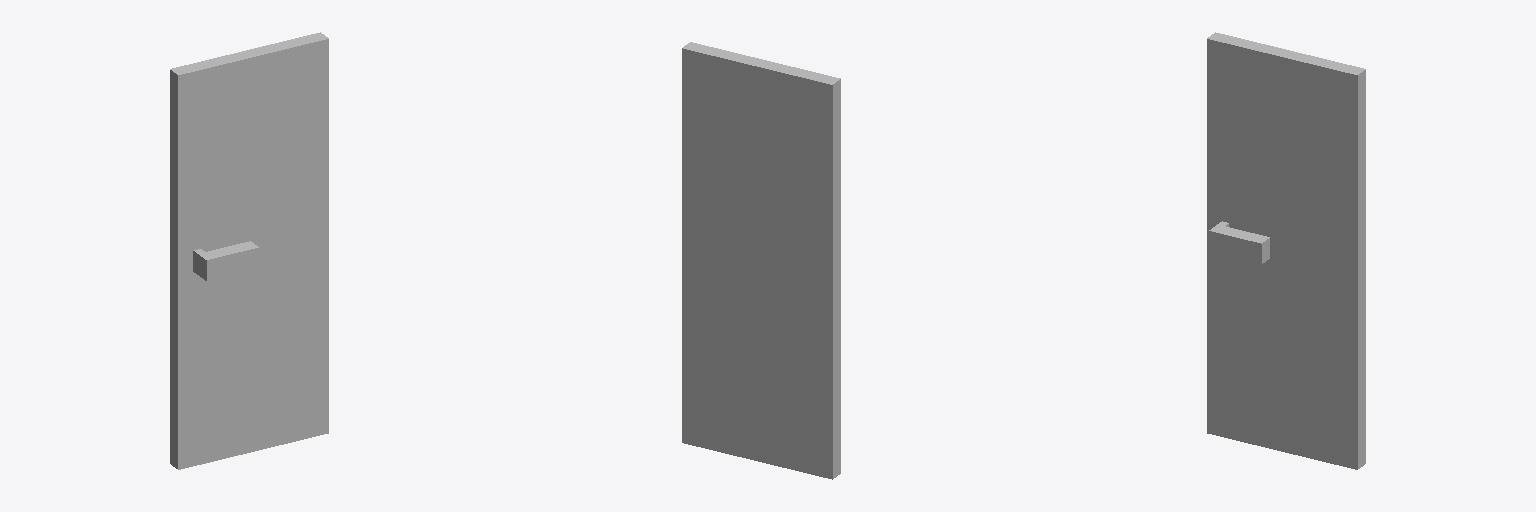
File: WardrobeDoorRight.obj
3 views of the same model, side by side, from view 1: azimuth 30°, elevation 25°; view 2: azimuth 150°, elevation 25°; view 3: azimuth 330°, elevation 25° (orthographic).
Visible parts, largest first — view 1: WardrobeDoorRight; view 2: WardrobeDoorRight; view 3: WardrobeDoorRight.
Boxes of the visible parts, <box> form: WardrobeDoorRight: <box>170,32,328,469</box>; WardrobeDoorRight: <box>682,42,840,479</box>; WardrobeDoorRight: <box>1207,32,1365,469</box>.
Size of the model in its own units: 1 by 2.5 by 0.25.